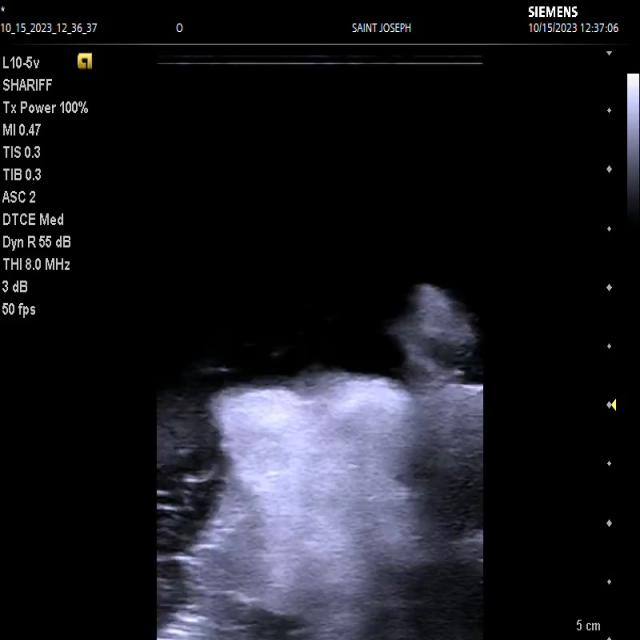tissue: (159, 286, 483, 640)
